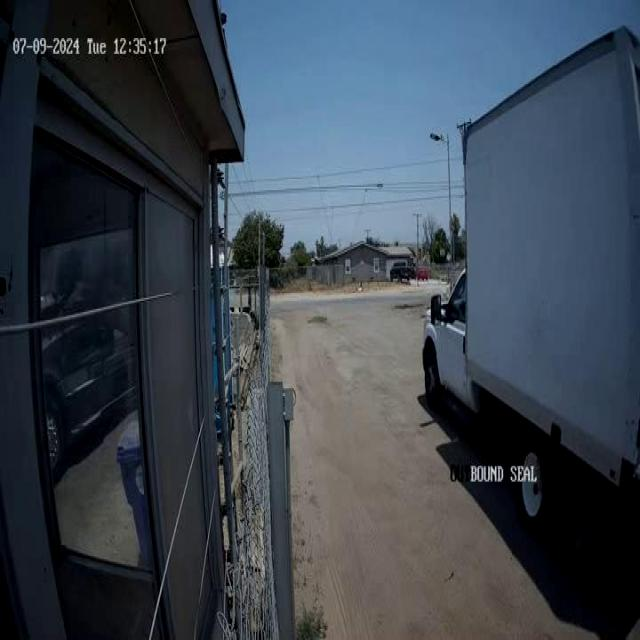TRUCK_CONTAINER: (421, 23, 639, 554)
